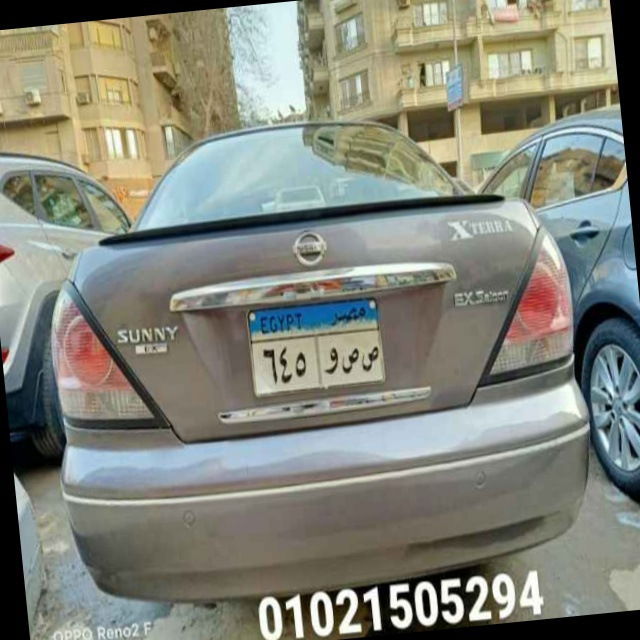License Plate: (242, 293, 389, 400)
